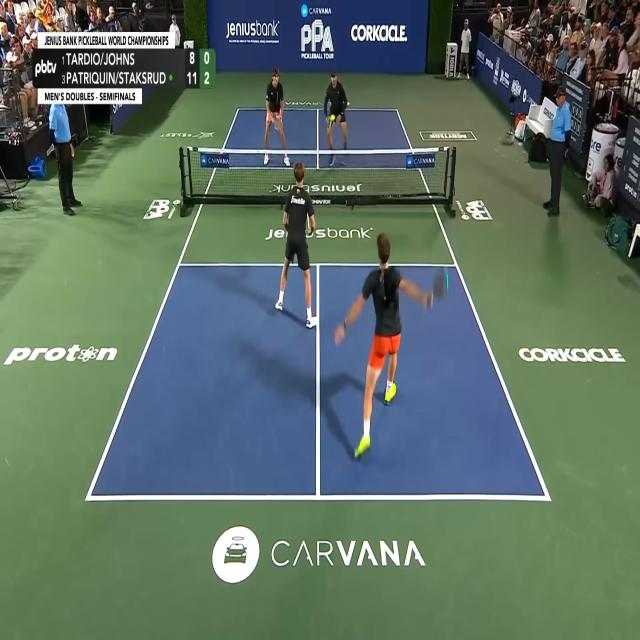ball: (330, 114, 336, 122)
